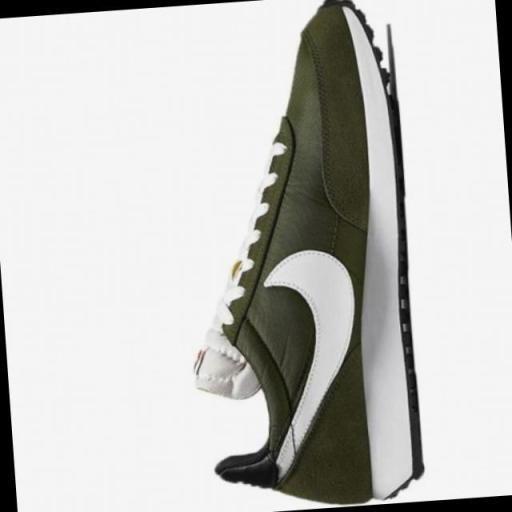Nike: (254, 235, 369, 481)
